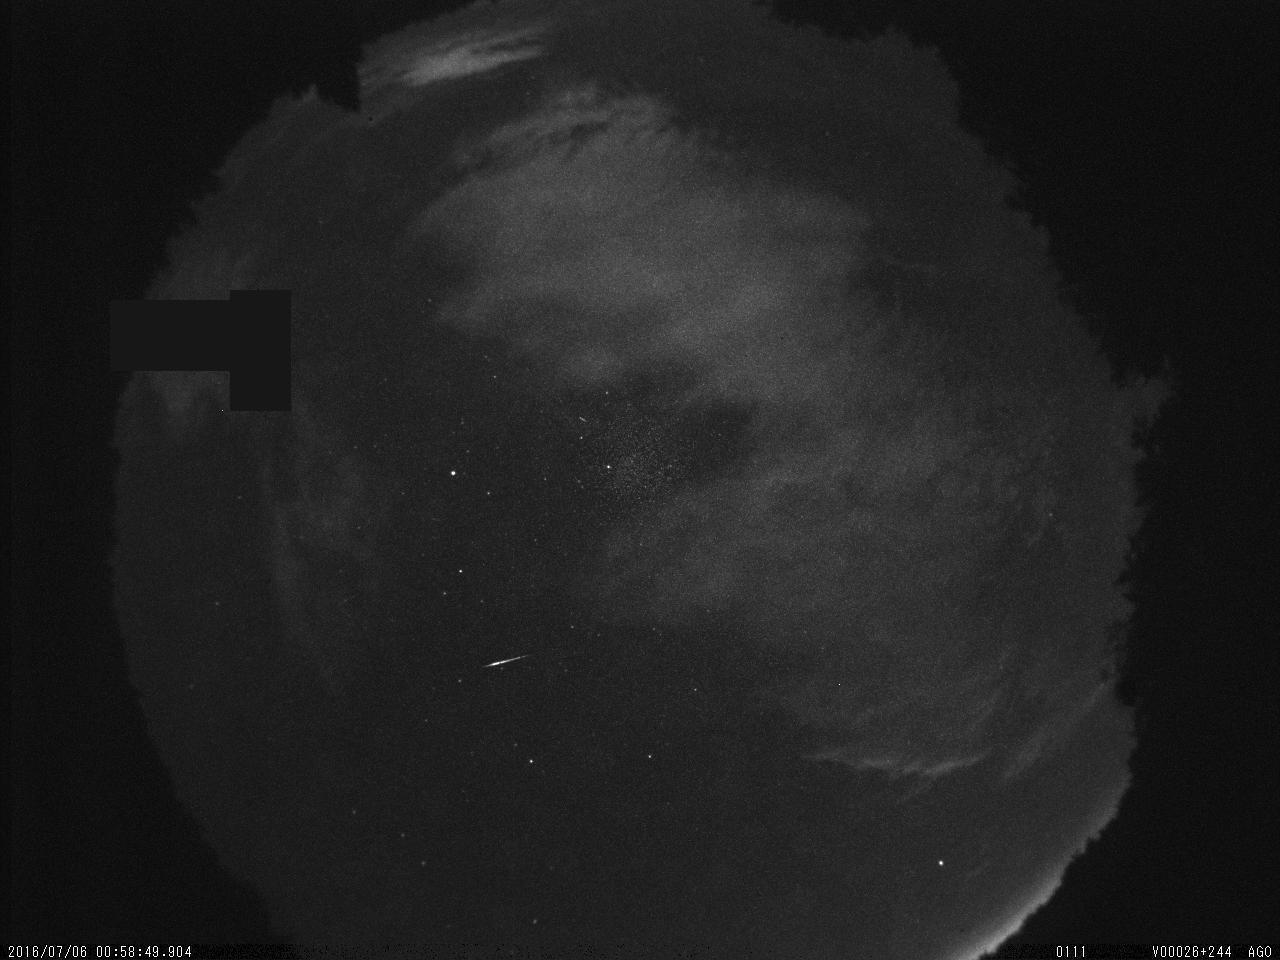Meteor: (480, 646, 541, 679)
